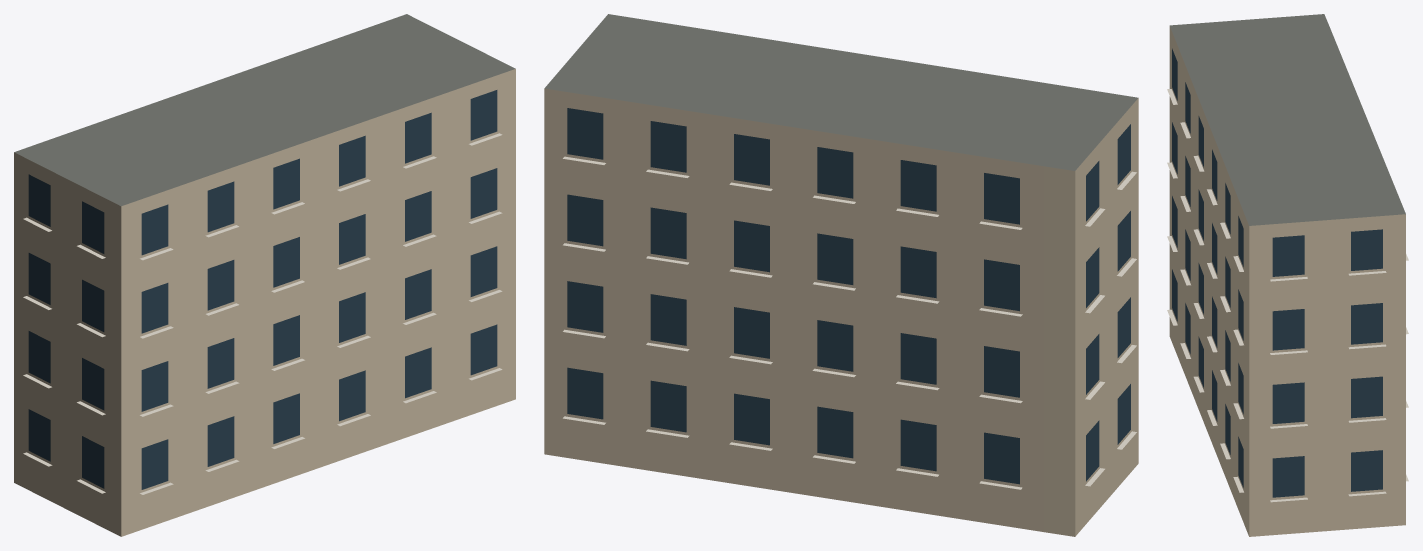
3 renders of one model, left to right at view 1: azimuth 30°, elevation 25°; view 2: azimuth 150°, elevation 25°; view 3: azimuth 270°, elevation 25°, orthographic. The views are drawn at different scales.
Visible parts, largest first — view 1: Footprint 0, Inferred window bays, Window sills; view 2: Footprint 0, Inferred window bays, Window sills; view 3: Footprint 0, Inferred window bays, Window sills.
Part boxes in pixels (x1,y1,x2,y2): Footprint 0: [14, 14, 515, 536]; Inferred window bays: [28, 90, 497, 489]; Window sills: [23, 133, 502, 494]; Footprint 0: [544, 14, 1138, 536]; Inferred window bays: [567, 108, 1130, 484]; Window sills: [563, 156, 1136, 489]; Footprint 0: [1169, 14, 1405, 536]; Inferred window bays: [1172, 48, 1382, 497]; Window sills: [1167, 89, 1408, 502].
Size of the model in its own units: 19.27 by 13.05 by 9.2.
